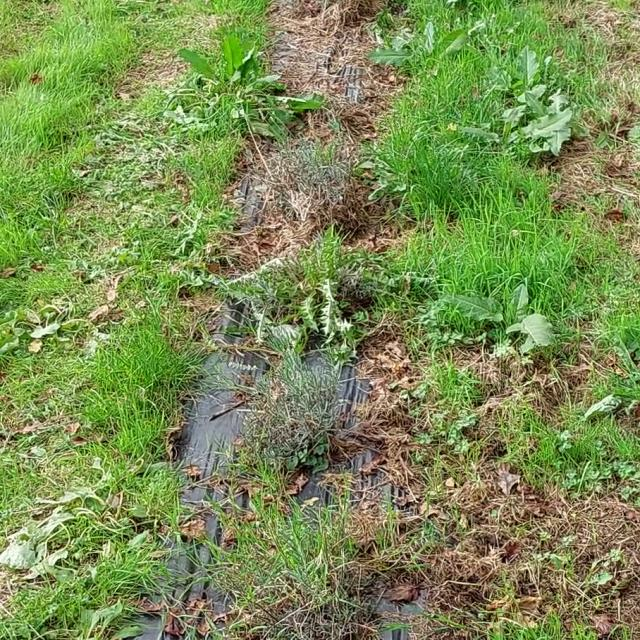organic waste: (190, 26, 316, 133), (0, 477, 132, 568), (438, 263, 548, 365), (371, 10, 500, 80), (440, 99, 553, 160), (472, 39, 556, 101), (519, 86, 586, 158), (28, 287, 100, 352)
